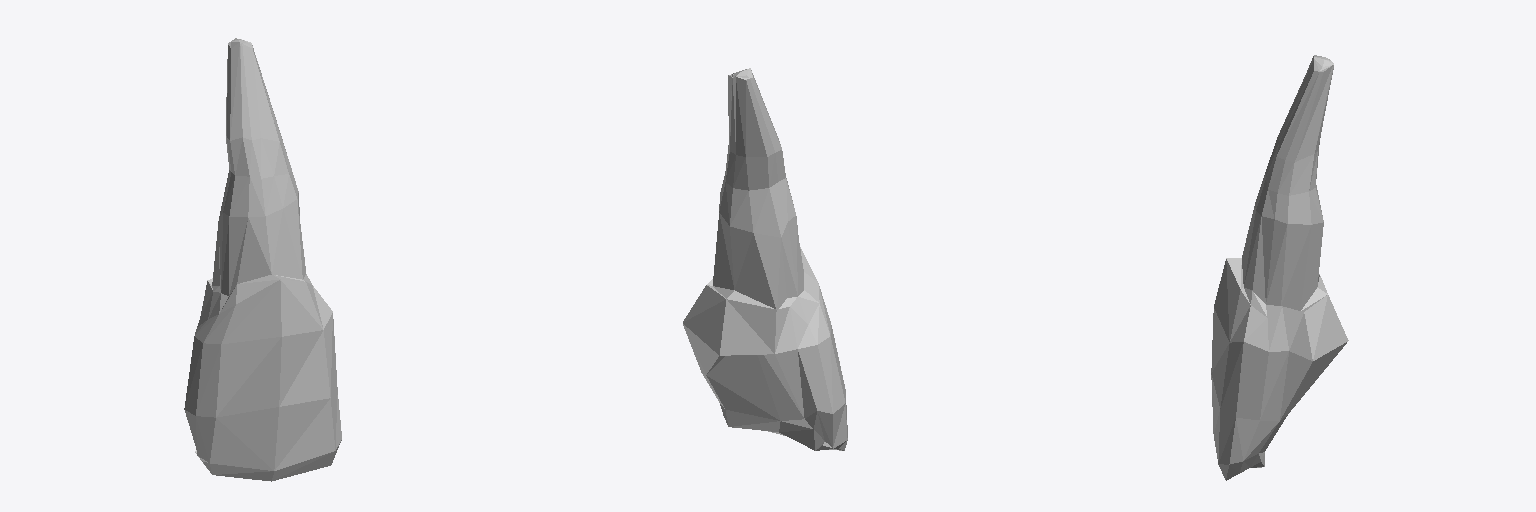
Rendered from Upper_Incisor_Left_01.obj.
3 renders of one model, left to right at view 1: azimuth 30°, elevation 25°; view 2: azimuth 150°, elevation 25°; view 3: azimuth 270°, elevation 25°, orthographic.
Parts seen in each view (by area): view 1: Upper_Incisor_Left_01 Upper_Teeth Teeth group1; view 2: Upper_Incisor_Left_01 Upper_Teeth Teeth group1; view 3: Upper_Incisor_Left_01 Upper_Teeth Teeth group1.
Part boxes in pixels (bbox=[...]): Upper_Incisor_Left_01 Upper_Teeth Teeth group1: bbox=[184, 38, 341, 481]; Upper_Incisor_Left_01 Upper_Teeth Teeth group1: bbox=[683, 68, 847, 450]; Upper_Incisor_Left_01 Upper_Teeth Teeth group1: bbox=[1211, 55, 1348, 480].
Bounding box in the file's own units: 0.0935 × 0.2602 × 0.0805.